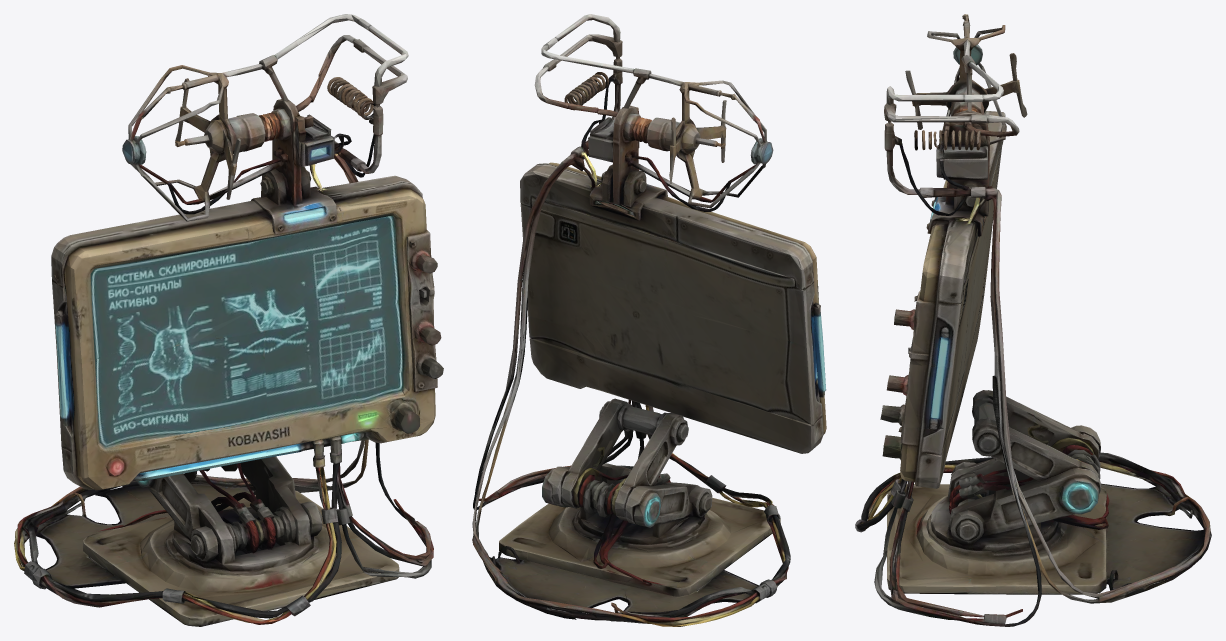
Rendered from prop_scanner_lv2.glb.
3 views of the same model, side by side, from view 1: azimuth 30°, elevation 25°; view 2: azimuth 150°, elevation 25°; view 3: azimuth 270°, elevation 25° (orthographic). The views are drawn at different scales.
Visible parts, largest first — view 1: world; view 2: world; view 3: world.
Boxes of the visible parts, bbox=[...] form: world: bbox=[14, 14, 443, 626]; world: bbox=[472, 14, 826, 626]; world: bbox=[855, 14, 1211, 626].
Bounding box in the file's own units: 0.5995 × 0.822 × 0.5254.
Materials: 1 (1 with a texture image).
